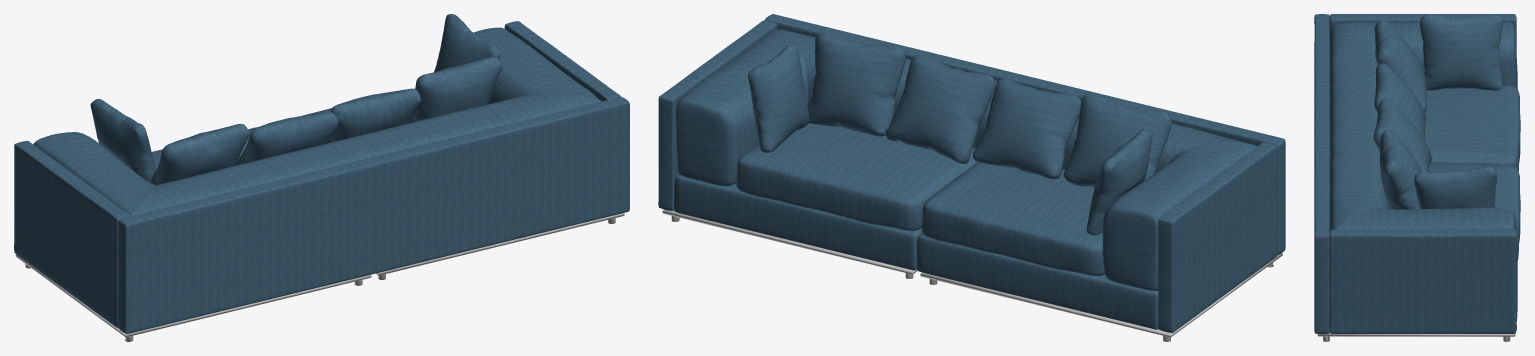
File: sofa.fbx
3 views of the same model, side by side, from view 1: azimuth 30°, elevation 25°; view 2: azimuth 150°, elevation 25°; view 3: azimuth 270°, elevation 25° (orthographic). The views are drawn at different scales.
Parts seen in each view (by area): view 1: polySurface146; view 2: polySurface146; view 3: polySurface146.
Boxes of the visible parts, x1,y1,x2,y2 form: polySurface146: (14, 14, 629, 341); polySurface146: (658, 14, 1285, 341); polySurface146: (1314, 14, 1520, 341).
Bounding box in the file's own units: 72.07 × 21.68 × 28.24.
